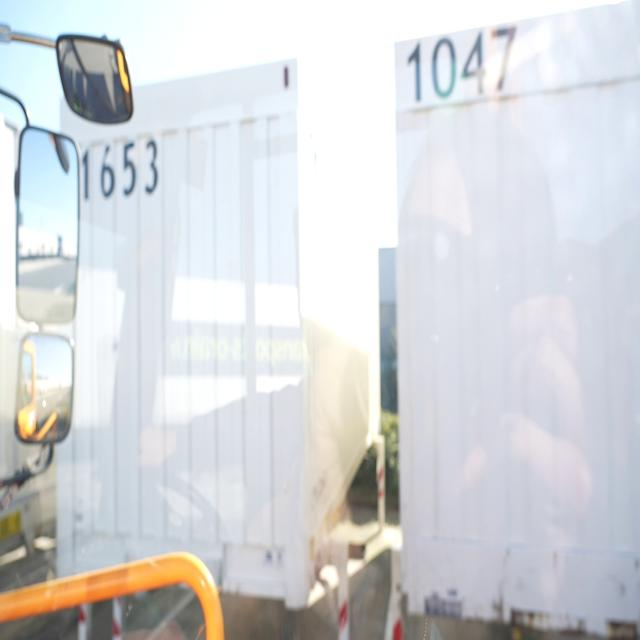Code: (404, 19, 521, 108), (80, 138, 160, 200)
